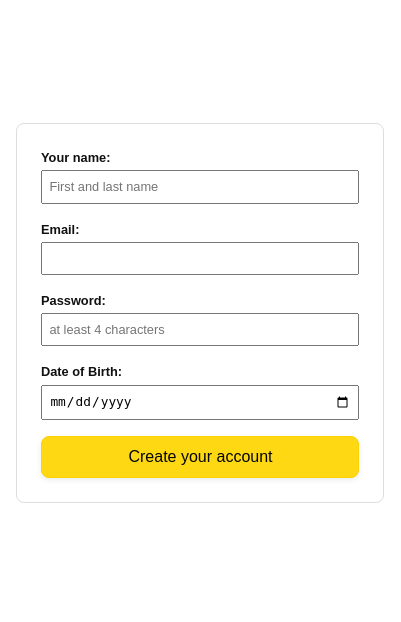
Test: Filling and checking the registration form with the incorrect values › User is pressing button without filling up
The image size is (401, 622).
Click the button "Create your account".
click(200, 457)  # box [41, 436, 359, 478]
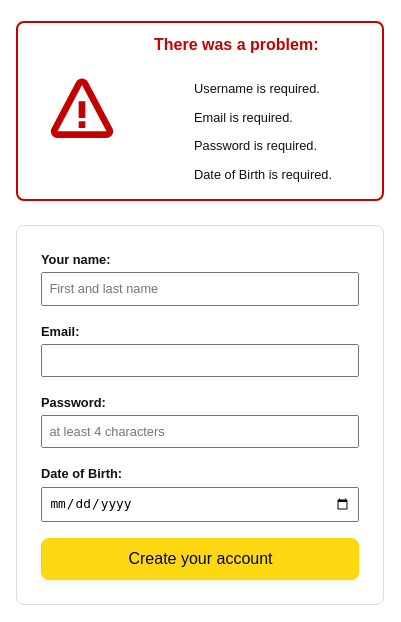
Now the element with id "error" is shown, box [154, 16, 332, 206]
Now the heading "There was a problem:" is shown, box [154, 38, 332, 54]
Now the list item "Username is required." is shown, box [194, 81, 320, 96]
